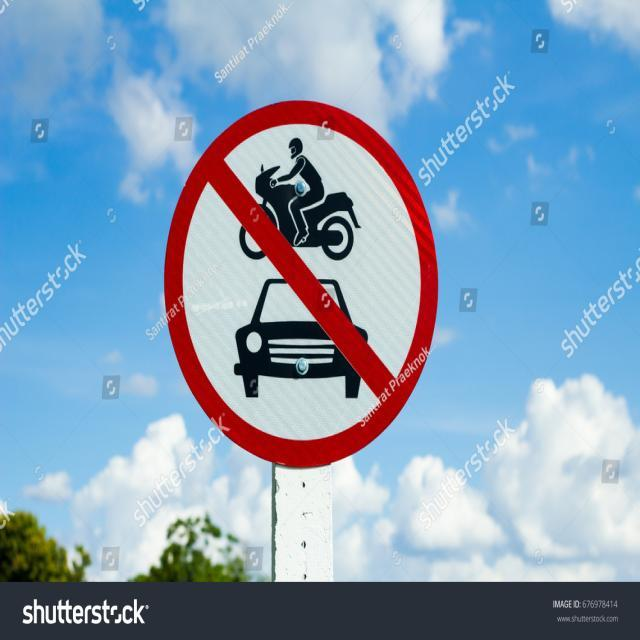all motor vehicle prohibited: (161, 90, 447, 475)
